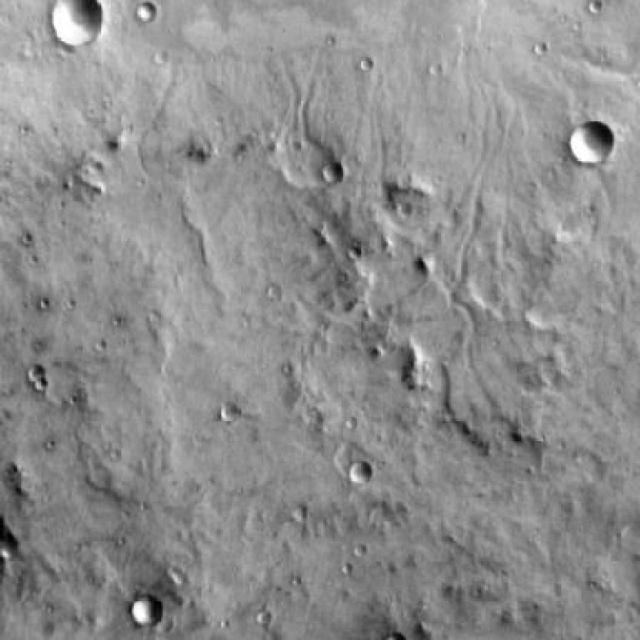crater: (48, 0, 101, 46), (568, 122, 612, 166), (131, 593, 163, 625), (348, 462, 372, 486), (318, 165, 342, 188), (32, 372, 51, 391), (137, 3, 155, 22), (257, 612, 274, 630), (223, 407, 240, 424), (396, 207, 412, 222)
